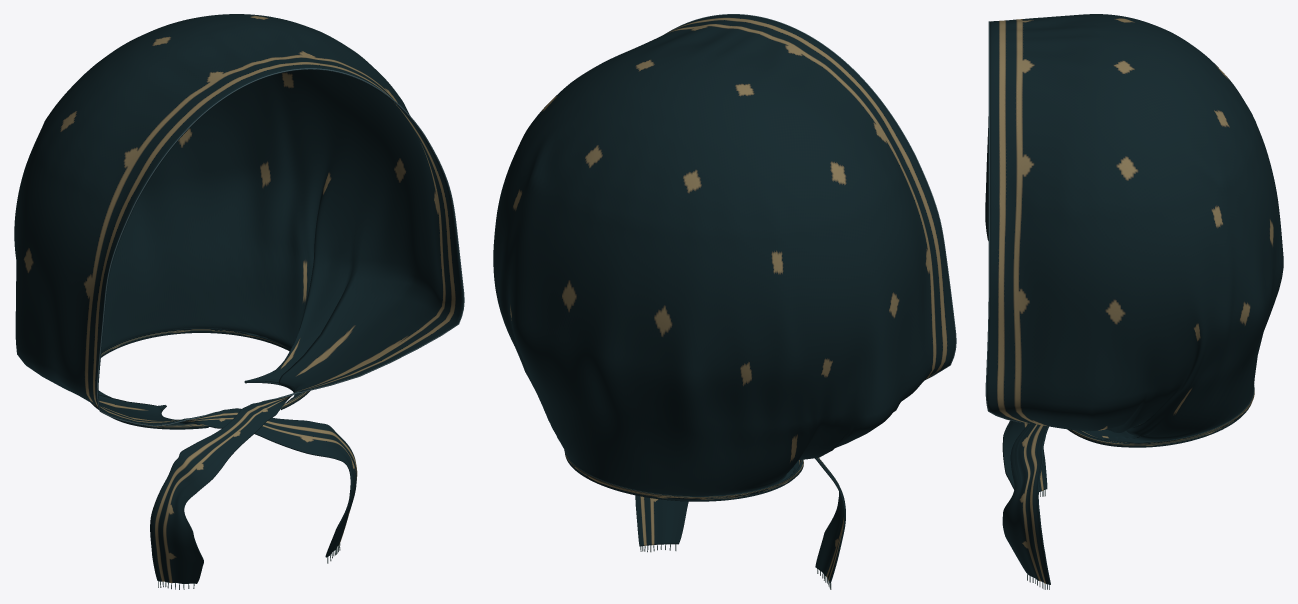
The model's file is Feminine-tshirt-long-pashmina248-headgear.glb.
3 views of the same model, side by side, from view 1: azimuth 30°, elevation 25°; view 2: azimuth 150°, elevation 25°; view 3: azimuth 270°, elevation 25° (orthographic). The views are drawn at different scales.
Parts seen in each view (by area): view 1: 226 headgear / Headwear / continuous woven pashmina239, 226 headgear / Headwear / face edge239; view 2: 226 headgear / Headwear / continuous woven pashmina239, 226 headgear / Headwear / face edge239; view 3: 226 headgear / Headwear / continuous woven pashmina239, 226 headgear / Headwear / face edge239.
Boxes of the visible parts, x1,y1,x2,y2 form: 226 headgear / Headwear / continuous woven pashmina239: (14, 14, 463, 583); 226 headgear / Headwear / face edge239: (96, 68, 464, 426); 226 headgear / Headwear / continuous woven pashmina239: (493, 14, 955, 583); 226 headgear / Headwear / face edge239: (664, 14, 956, 379); 226 headgear / Headwear / continuous woven pashmina239: (985, 14, 1283, 584); 226 headgear / Headwear / face edge239: (985, 21, 1026, 423).
Size of the model in its own units: 1.02 by 1.35 by 0.7112.
3 materials, 1 textured.
